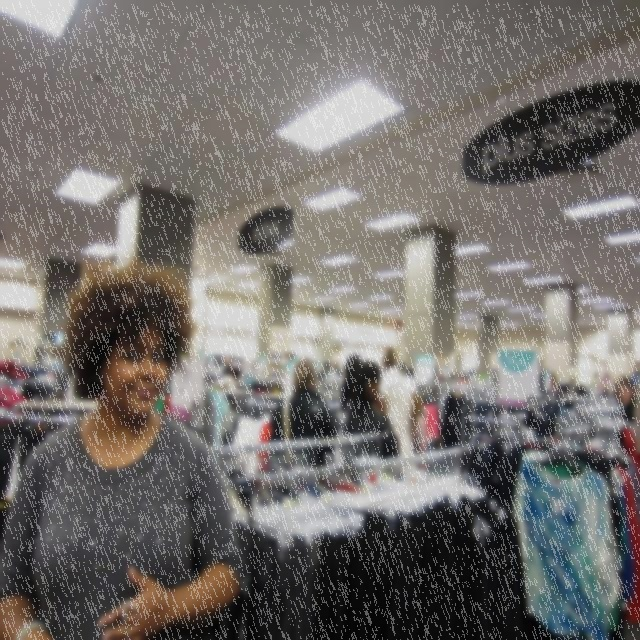pessoa: (0, 265, 249, 639), (337, 356, 402, 486), (269, 356, 339, 470), (340, 353, 381, 488), (378, 344, 419, 474), (613, 374, 636, 454), (408, 391, 430, 474), (210, 354, 240, 399), (560, 376, 586, 406), (185, 398, 203, 437), (316, 360, 340, 388), (42, 344, 64, 367), (276, 347, 296, 372), (462, 369, 484, 391), (546, 369, 562, 396)
